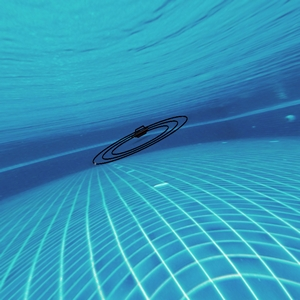circle: (91, 106, 193, 187)
submarine: (137, 125, 146, 137)
